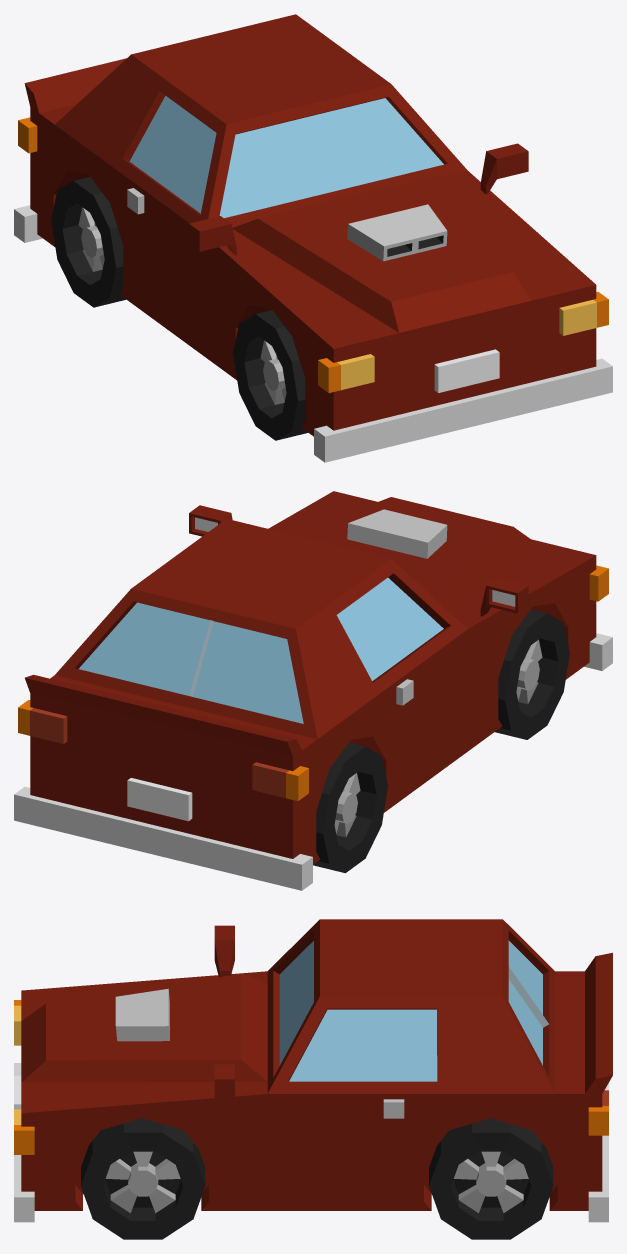
The model's file is scar.glb.
3 renders of one model, top to bottom at view 1: azimuth 30°, elevation 25°; view 2: azimuth 150°, elevation 25°; view 3: azimuth 270°, elevation 25°, orthographic. The views are drawn at different scales.
Parts seen in each view (by area): view 1: Vehicle.002_Material_0; view 2: Vehicle.002_Material_0; view 3: Vehicle.002_Material_0.
Boxes of the visible parts, x1,y1,x2,y2 form: Vehicle.002_Material_0: [14, 14, 612, 462]; Vehicle.002_Material_0: [14, 491, 612, 890]; Vehicle.002_Material_0: [14, 919, 612, 1239].
Size of the model in its own units: 2.5 by 1.66 by 4.12.
1 material, 1 textured.
